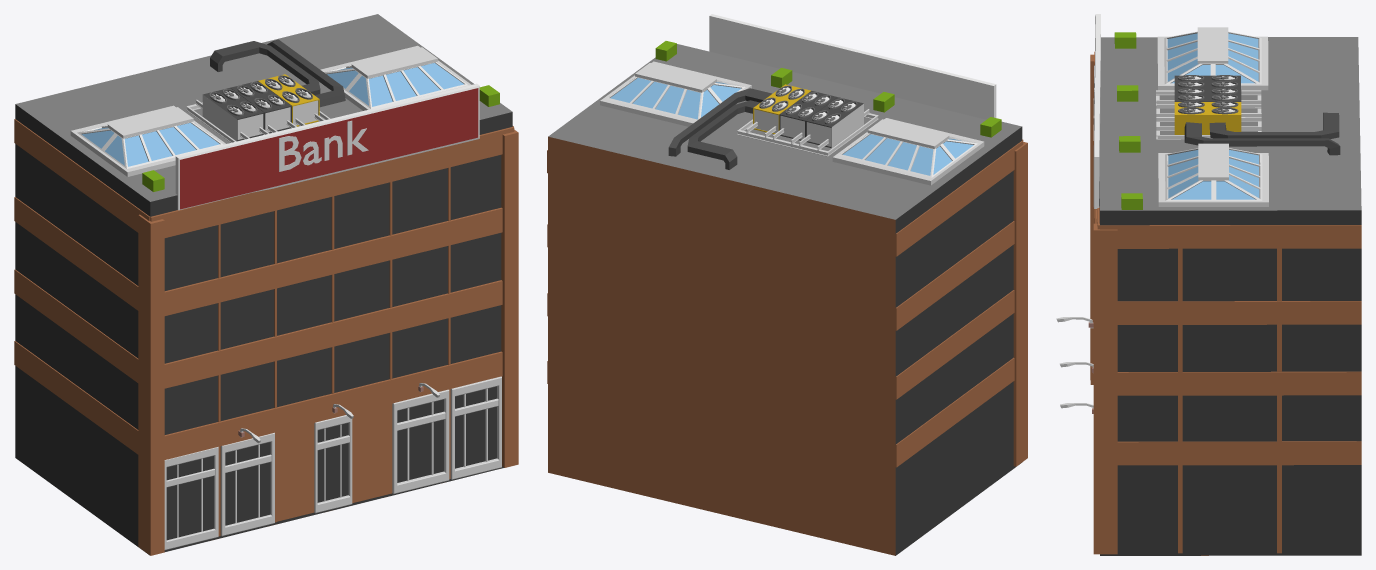
Rendered from bank.glb.
3 renders of one model, left to right at view 1: azimuth 30°, elevation 25°; view 2: azimuth 150°, elevation 25°; view 3: azimuth 270°, elevation 25°, orthographic. The views are drawn at different scales.
Parts seen in each view (by area): view 1: Ventilation_1.001; view 2: Ventilation_1.001; view 3: Ventilation_1.001.
Boxes of the visible parts, bbox=[...] form: Ventilation_1.001: bbox=[14, 14, 518, 555]; Ventilation_1.001: bbox=[547, 14, 1027, 555]; Ventilation_1.001: bbox=[1056, 14, 1361, 555].
Size of the model in its own units: 351 by 356 by 258.
